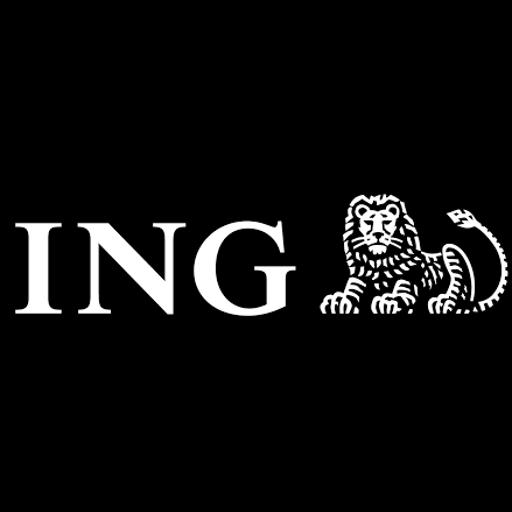ING: (0, 189, 512, 323)
